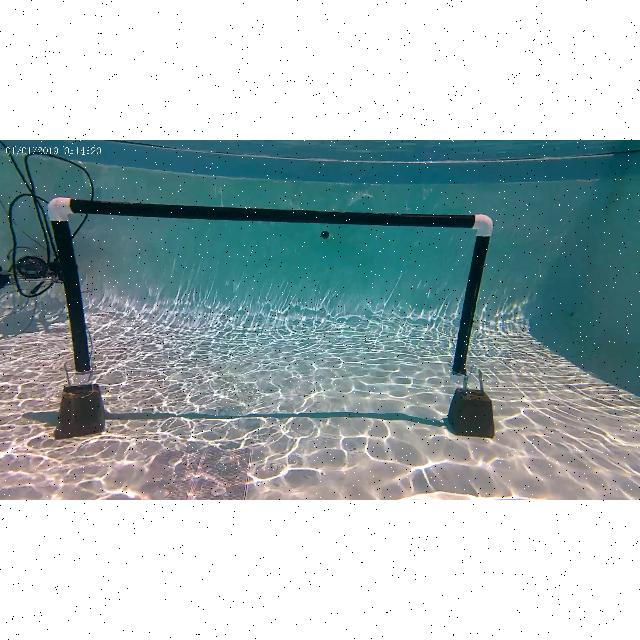prequal gate: (49, 193, 494, 384)
prequal gate leg l: (44, 192, 94, 376)
prequal gate leg r: (452, 210, 494, 378)
